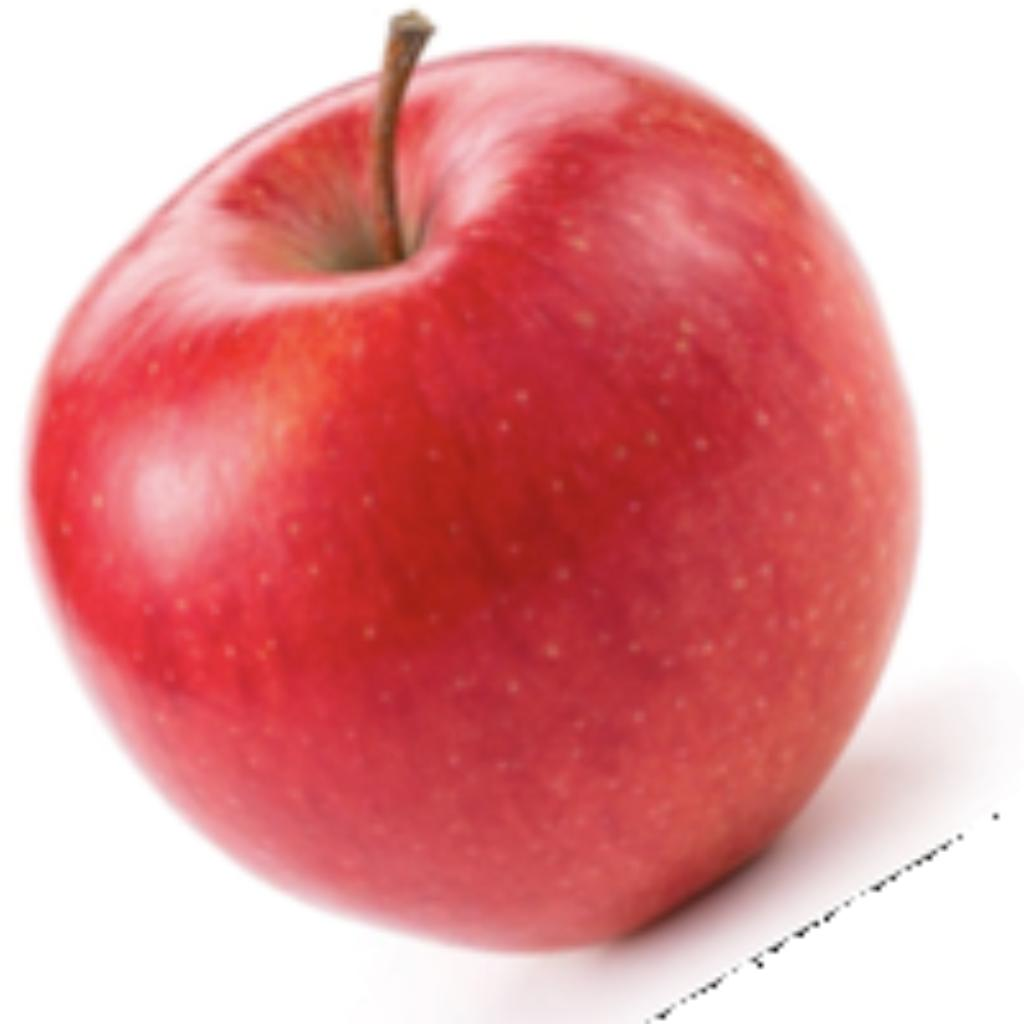apple: (10, 0, 983, 1019)
